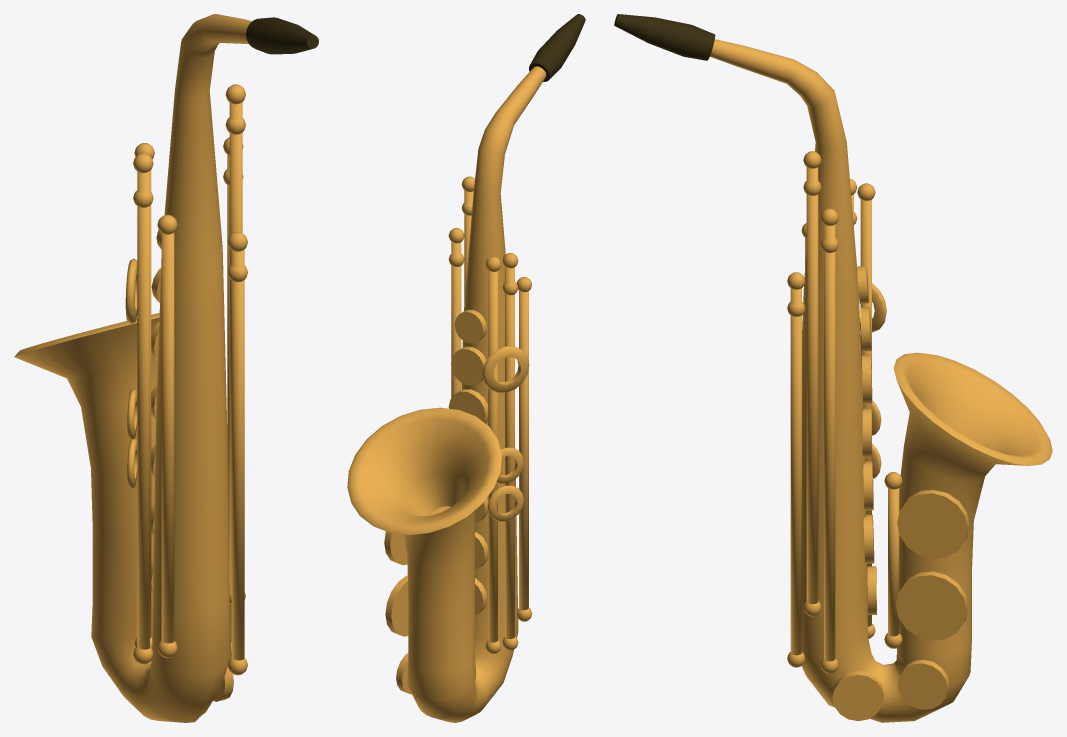
Rendered from Saxophone.fbx.
3 renders of one model, left to right at view 1: azimuth 30°, elevation 25°; view 2: azimuth 150°, elevation 25°; view 3: azimuth 270°, elevation 25°, orthographic. The views are drawn at different scales.
Visible parts, largest first — view 1: Saxophone; view 2: Saxophone; view 3: Saxophone.
Part boxes in pixels (x1,y1,x2,y2): Saxophone: [14, 14, 318, 722]; Saxophone: [347, 14, 585, 722]; Saxophone: [614, 14, 1052, 722].
Bounding box in the file's own units: 1.35 × 5.77 × 3.24.
